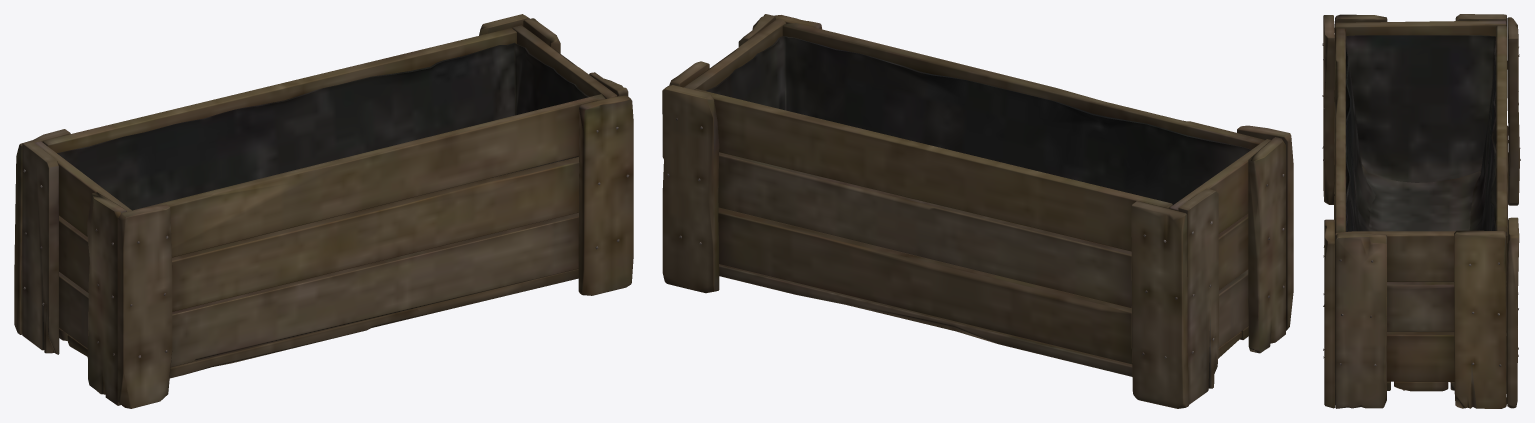
Rendered from jardiniere_bac_bois_lod0.glb.
The picture shows the model from 3 angles, left to right: view 1: azimuth 30°, elevation 25°; view 2: azimuth 150°, elevation 25°; view 3: azimuth 270°, elevation 25°; orthographic projection. The views are drawn at different scales.
Parts seen in each view (by area): view 1: planter_box_02; view 2: planter_box_02; view 3: planter_box_02.
Part boxes in pixels (<box>): planter_box_02: <box>14,14,633,408</box>; planter_box_02: <box>662,14,1293,408</box>; planter_box_02: <box>1322,14,1520,408</box>.
Bounding box in the file's own units: 1.25 × 0.4534 × 0.4672.
Materials: 1 (1 with a texture image).
